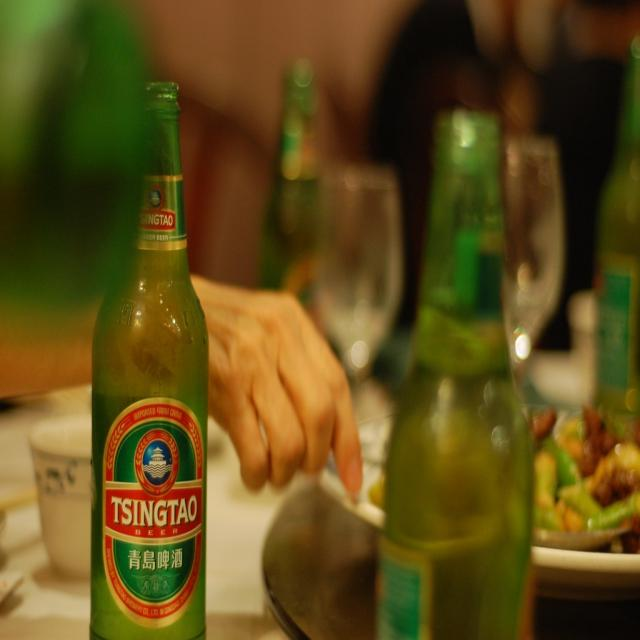tsingtao: (102, 396, 206, 629)
